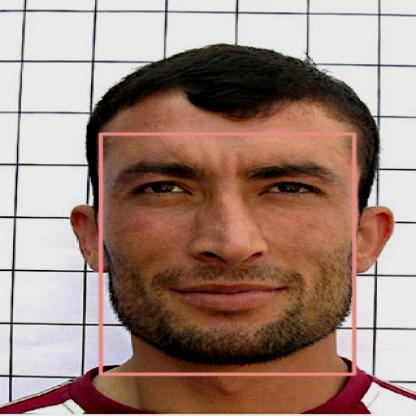without_mask: (100, 134, 354, 374)
